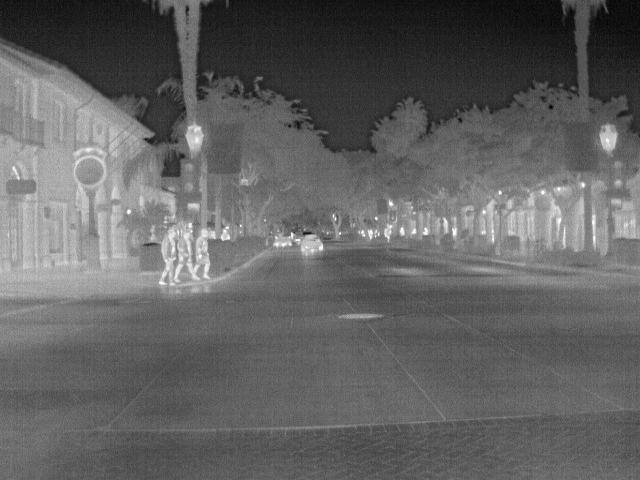car: (297, 234, 325, 253), (272, 230, 300, 246)
person: (157, 228, 181, 286), (173, 229, 195, 281), (192, 229, 213, 278)
